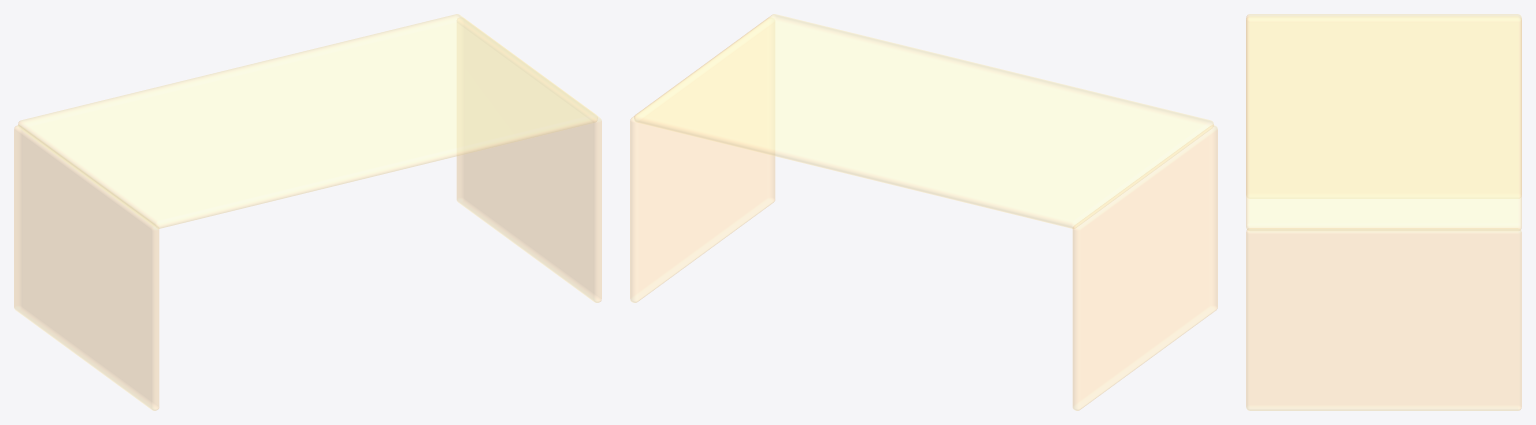
Rendered from ref03_05.glb.
3 renders of one model, left to right at view 1: azimuth 30°, elevation 25°; view 2: azimuth 150°, elevation 25°; view 3: azimuth 270°, elevation 25°, orthographic.
Parts seen in each view (by area): view 1: ref03_05; view 2: ref03_05; view 3: ref03_05.
Boxes of the visible parts, box(x1,y1,x2,y2) form: ref03_05: box(14, 14, 601, 410); ref03_05: box(630, 14, 1217, 410); ref03_05: box(1246, 14, 1521, 410).
Size of the model in its own units: 1.02 by 0.409 by 0.55.
